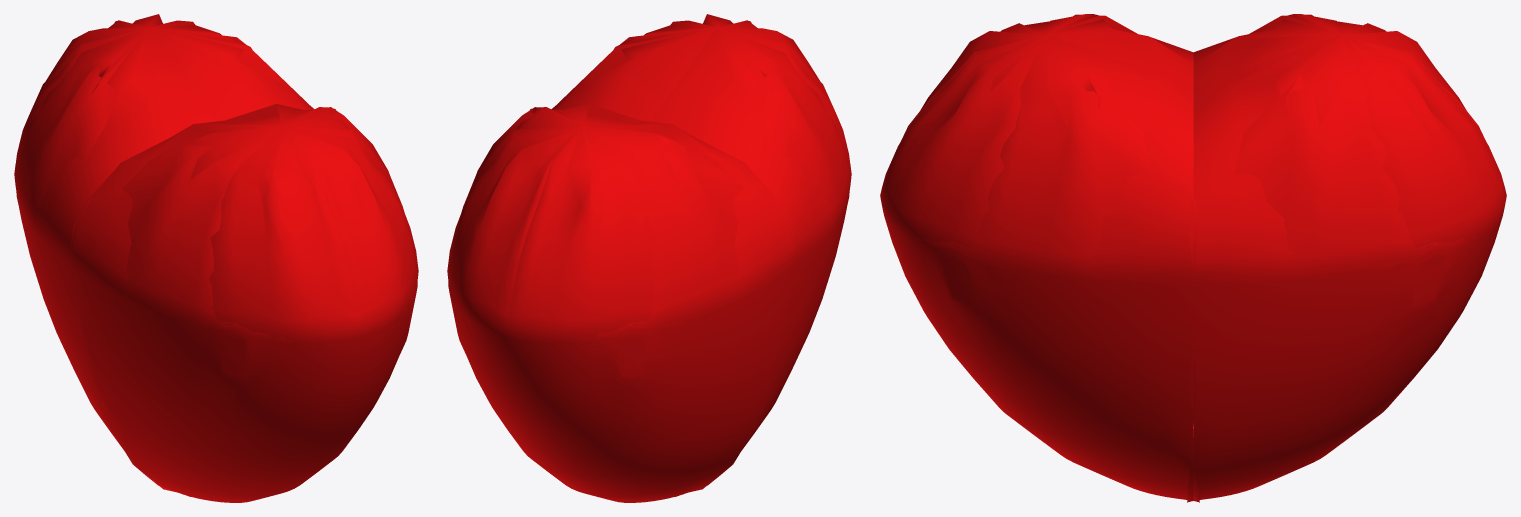
Rendered from heart.fbx.
3 renders of one model, left to right at view 1: azimuth 30°, elevation 25°; view 2: azimuth 150°, elevation 25°; view 3: azimuth 270°, elevation 25°, orthographic. The views are drawn at different scales.
Visible parts, largest first — view 1: Sphere; view 2: Sphere; view 3: Sphere.
Boxes of the visible parts, x1,y1,x2,y2 form: Sphere: (14,14,418,502); Sphere: (447,14,851,502); Sphere: (880,14,1506,502).
Bounding box in the file's own units: 112 × 153 × 190.
